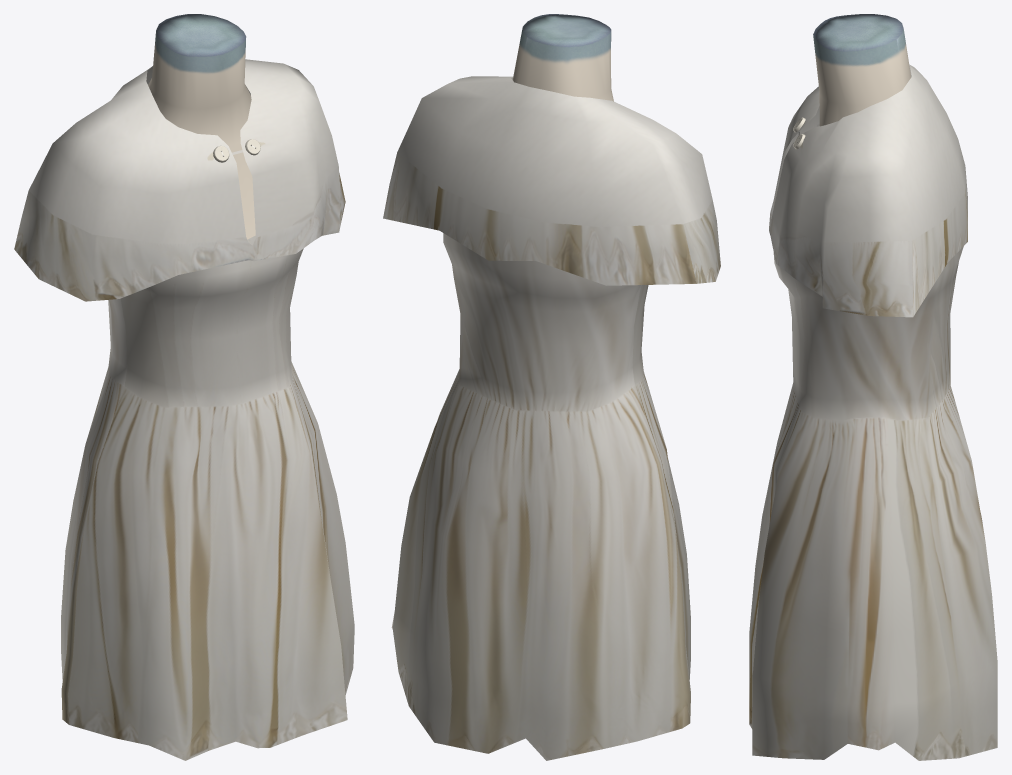
The model's file is White Dress.fbx.
3 views of the same model, side by side, from view 1: azimuth 30°, elevation 25°; view 2: azimuth 150°, elevation 25°; view 3: azimuth 270°, elevation 25° (orthographic).
Parts seen in each view (by area): view 1: dress_w, dress_up, Stand_white_dress; view 2: dress_w, dress_up, Stand_white_dress; view 3: dress_w, dress_up, Stand_white_dress.
Part boxes in pixels (x1,y1,x2,y2): dress_w: (61, 235, 354, 760); dress_up: (14, 59, 345, 301); Stand_white_dress: (148, 14, 255, 239); dress_w: (391, 233, 690, 760); dress_up: (383, 76, 720, 285); Stand_white_dress: (512, 14, 613, 101); dress_w: (749, 246, 997, 760); dress_up: (769, 64, 967, 317); Stand_white_dress: (813, 14, 911, 126).
Bounding box in the file's own units: 19 × 38.35 × 12.56.
1 material, 1 textured.
